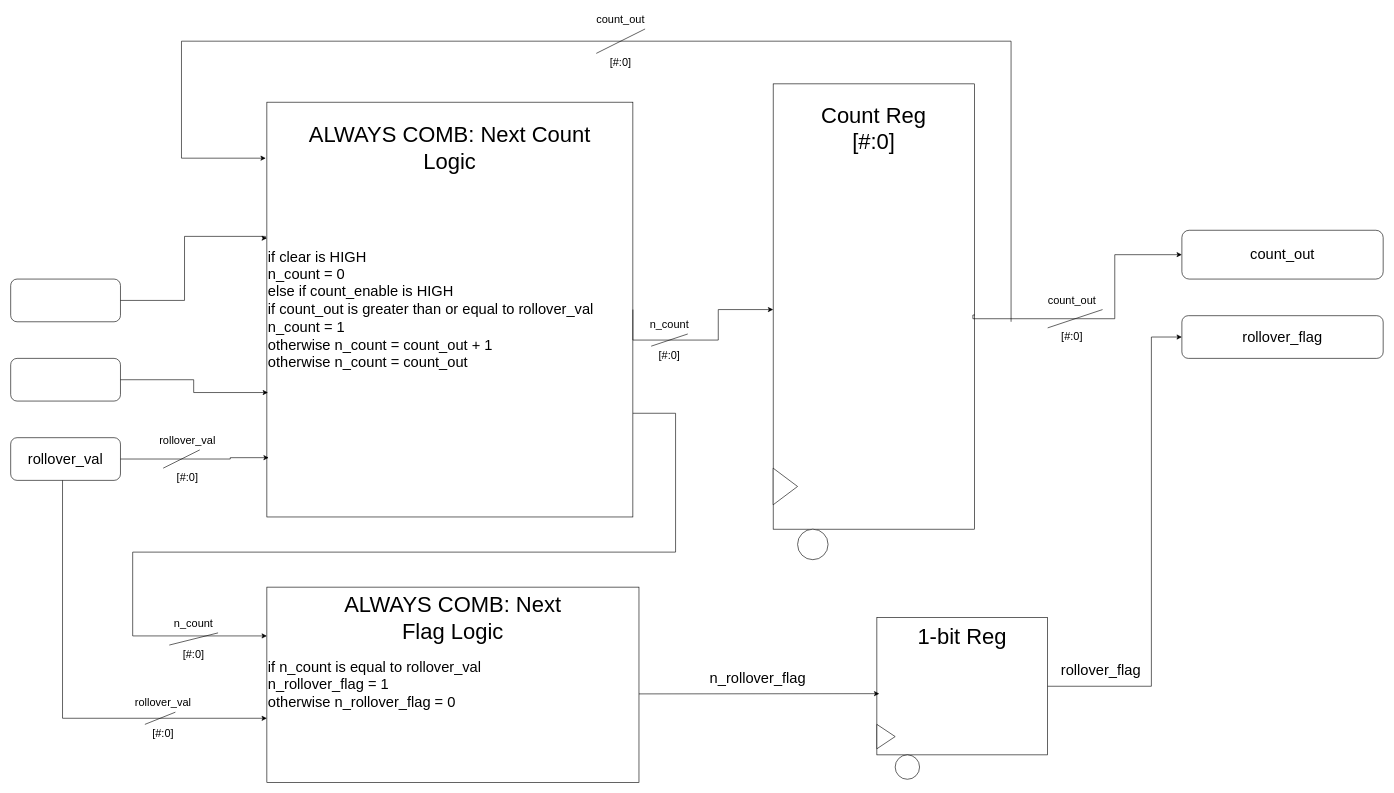
The diagram is 1394 pixels wide and 793 high, and some of its shapes have lost their labels. The centre of each missing label's shape, as x and y in pixels:
"clear" belongs at (65,300).
"count_enable" belongs at (65,379).
